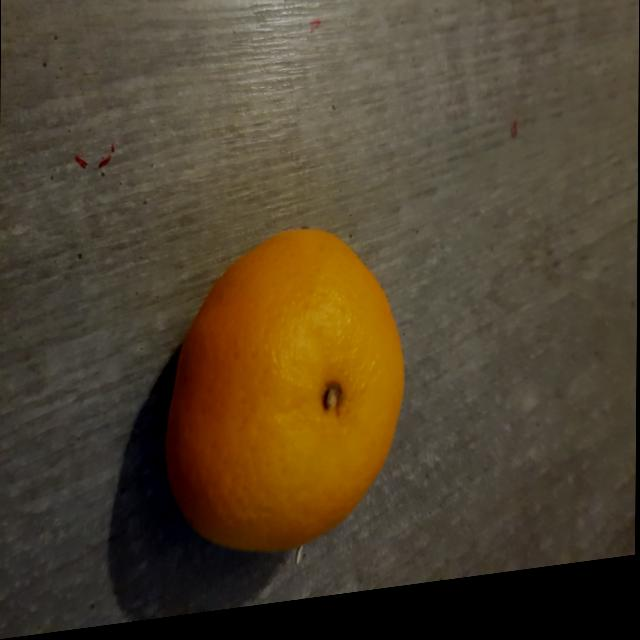Orange: (163, 236, 404, 561)
